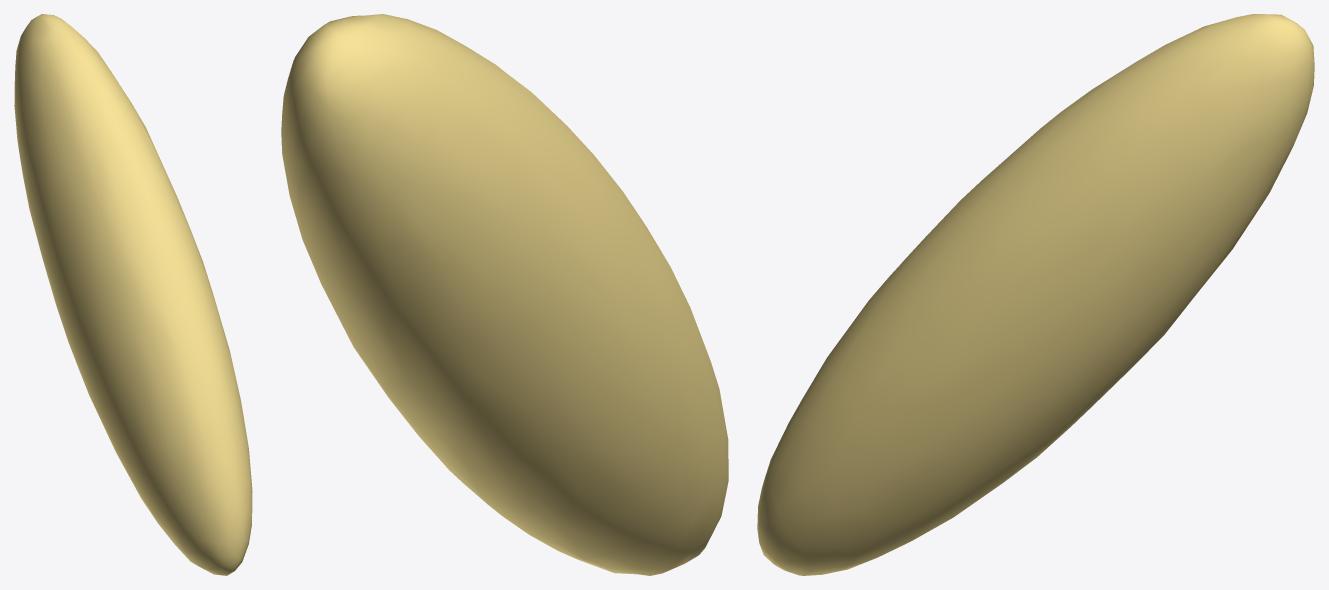
Rendered from fma73337_fj7488m.glb.
3 views of the same model, side by side, from view 1: azimuth 30°, elevation 25°; view 2: azimuth 150°, elevation 25°; view 3: azimuth 270°, elevation 25° (orthographic). The views are drawn at different scales.
Visible parts, largest first — view 1: FMA73337_FJ7488M; view 2: FMA73337_FJ7488M; view 3: FMA73337_FJ7488M.
Part boxes in pixels (x1,y1,x2,y2): FMA73337_FJ7488M: (14, 14, 252, 575); FMA73337_FJ7488M: (281, 14, 728, 575); FMA73337_FJ7488M: (757, 14, 1314, 575).
Size of the model in its own units: 0.000993 by 0.00328 by 0.00295.
